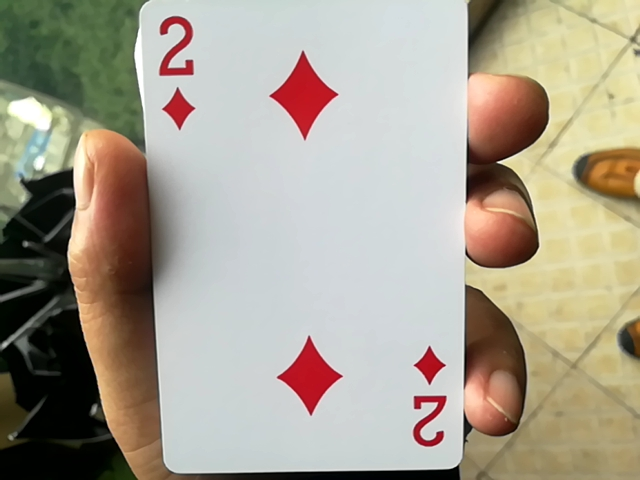fk 2: (131, 0, 477, 476)
